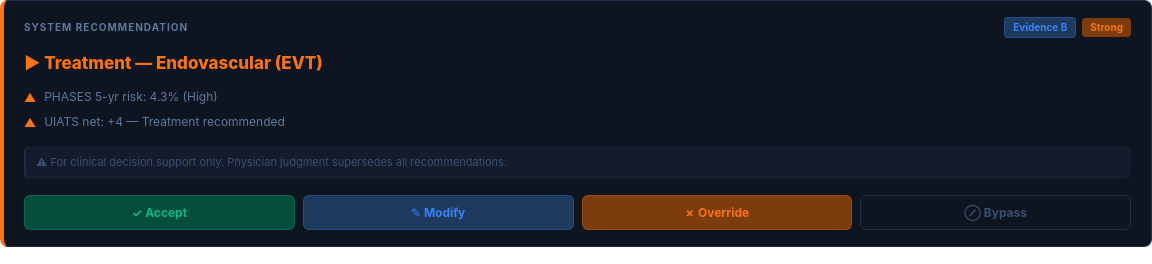
Test: ClinicalDecision › reveals textarea when Override button clicked
Step 1. Click the button "✗ Override" → [717, 212], box x1=582 y1=195 x2=852 y2=230
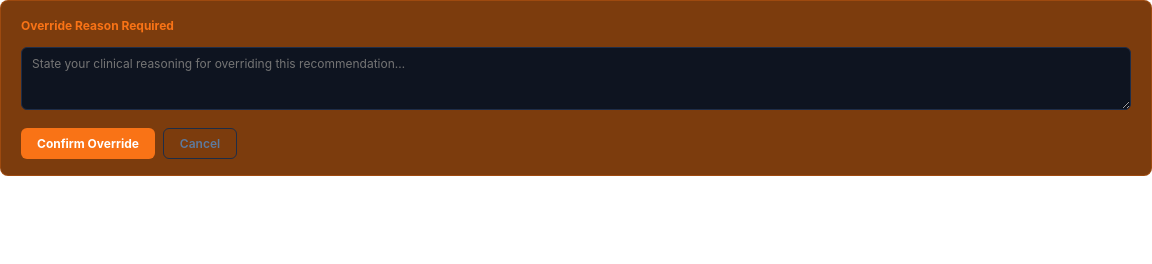
Expected: the text box is shown, x1=21 y1=47 x2=1131 y2=110
